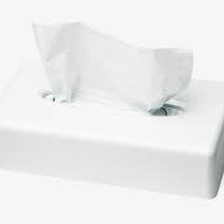plastic_box: (0, 61, 224, 204)
tissue: (20, 12, 201, 119)
